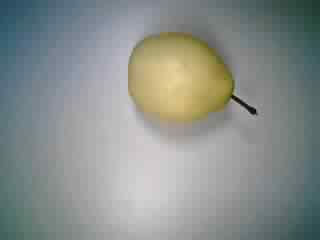pear: (121, 22, 266, 140)
